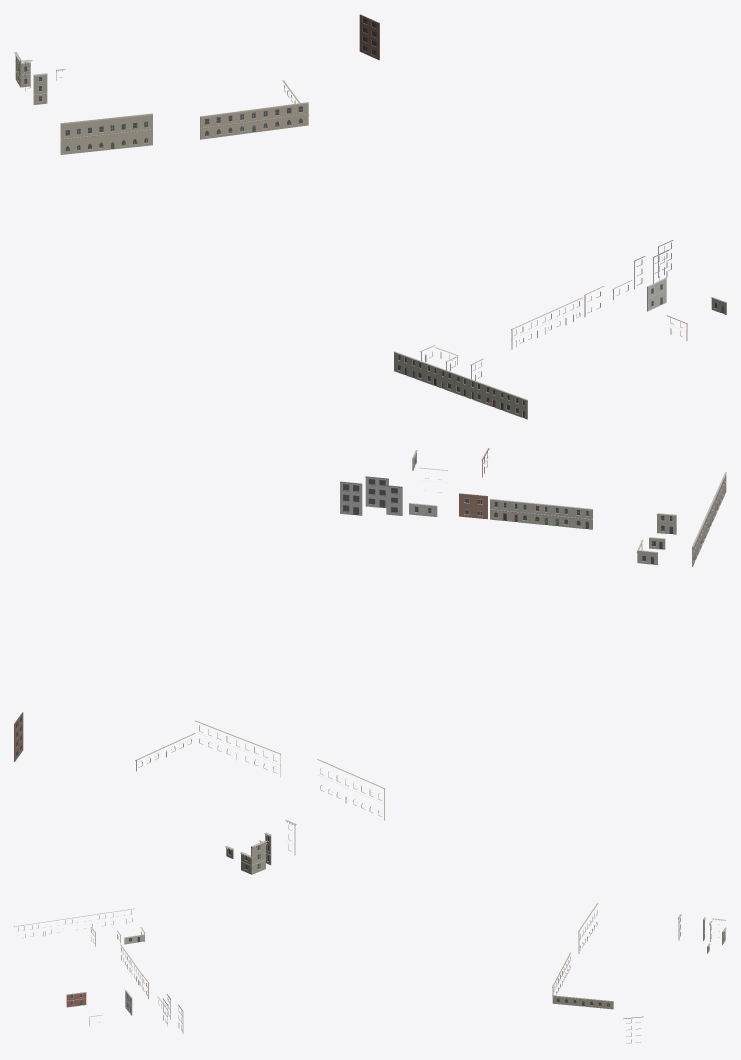
The picture shows the model from 3 angles, top to bottom: view 1: azimuth 30°, elevation 25°; view 2: azimuth 150°, elevation 25°; view 3: azimuth 270°, elevation 25°; orthographic projection. The views are drawn at different scales.
Visible parts, largest first — view 1: f:way/13989400, f:way/171887757, f:way/13989501, f:way/93136309, f:way/170216442; view 2: f:way/158060964, f:way/171887775, f:way/171887757, f:way/93136309, f:way/171887766; view 3: f:way/13989501, f:way/171887757, f:way/485472603, f:way/93136309.
Part boxes in pixels (<box>): f:way/13989400: <box>60,113,152,154</box>; f:way/171887757: <box>394,345,527,419</box>; f:way/13989501: <box>200,80,308,139</box>; f:way/93136309: <box>14,52,65,104</box>; f:way/170216442: <box>359,14,379,60</box>; f:way/158060964: <box>490,498,592,529</box>; f:way/171887775: <box>340,476,402,515</box>; f:way/171887757: <box>636,472,726,566</box>; f:way/93136309: <box>225,820,296,874</box>; f:way/171887766: <box>459,493,487,519</box>; f:way/13989501: <box>552,952,613,1009</box>; f:way/171887757: <box>14,908,144,946</box>; f:way/485472603: <box>66,992,86,1007</box>; f:way/93136309: <box>677,914,726,953</box>.
Size of the model in its own units: 107 by 13.69 by 270.
